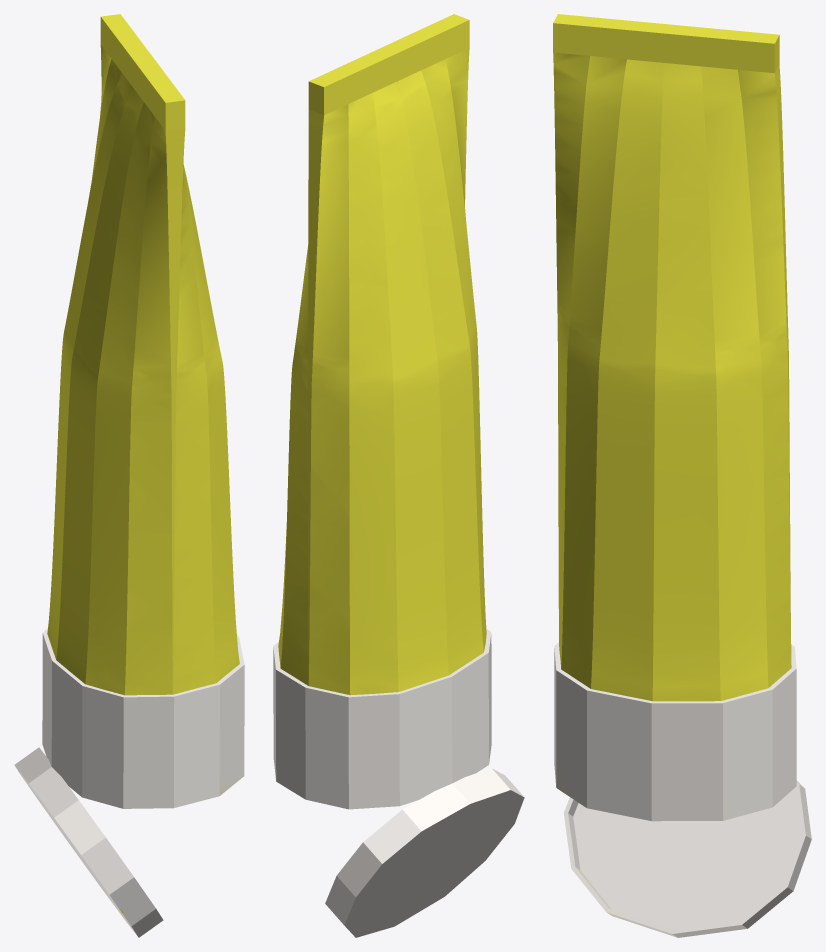
The model's file is NEW pomata aperta.fbx.
The picture shows the model from 3 angles, left to right: view 1: azimuth 30°, elevation 25°; view 2: azimuth 150°, elevation 25°; view 3: azimuth 270°, elevation 25°; orthographic projection. The views are drawn at different scales.
Visible parts, largest first — view 1: Object_3.001; view 2: Object_3.001; view 3: Object_3.001.
Boxes of the visible parts, x1=… form: Object_3.001: x1=14, y1=14, x2=244, y2=937; Object_3.001: x1=273, y1=14, x2=524, y2=937; Object_3.001: x1=553, y1=14, x2=811, y2=937.
Bounding box in the file's own units: 6.41 × 27.3 × 7.
